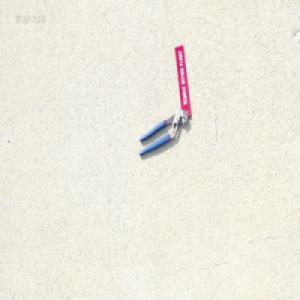Label: (175, 43, 192, 117)
Pliers: (138, 108, 187, 157)
